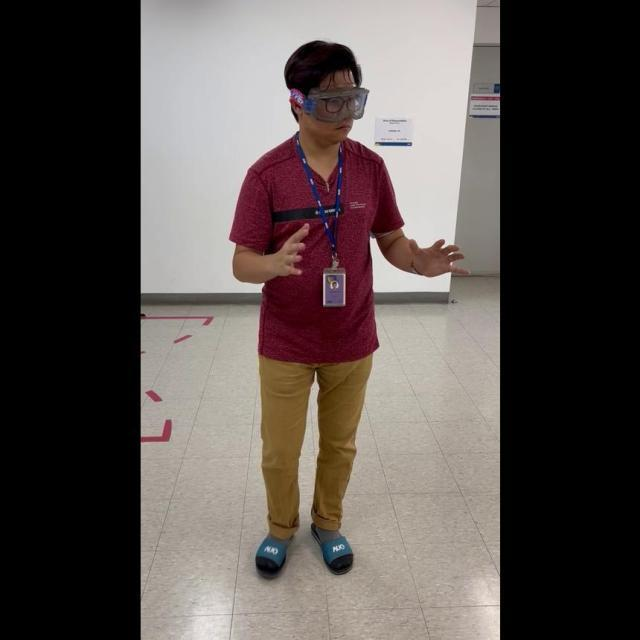bare_hand: (265, 211, 314, 284), (410, 233, 466, 279)
